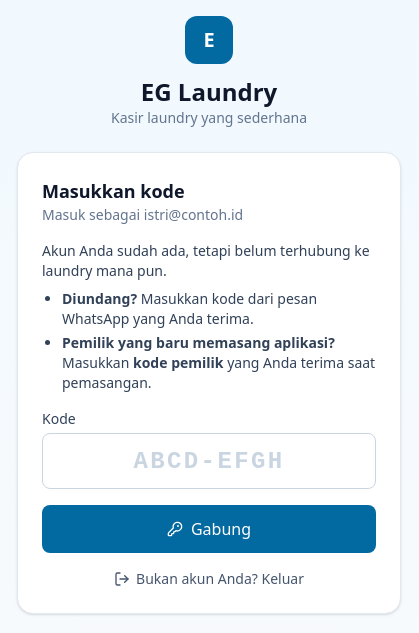
Test: JoinOrganization › takes the code from a pasted line of the invitation message
The width and height of the screenshot is (419, 633).
Later steps or results of the test are not shown.
Type "3. Kode terisi sendiri. Jika diminta, ketik kode: ABCD-EFGH" into the field labelled "Kode" at coordinates (209, 461), box 42,433 -> 376,489
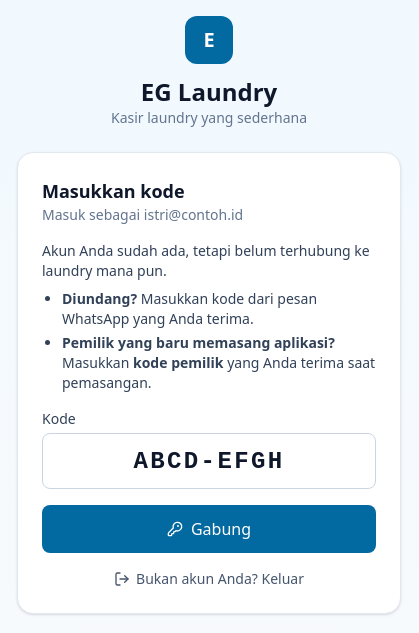
Now the field labelled "Kode" holds "ABCD-EFGH", box 42,433 -> 376,489
